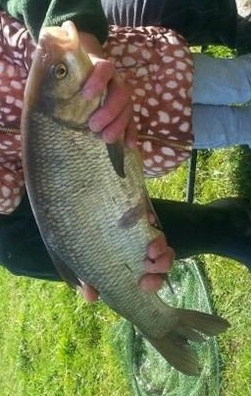Leuciscus idus: (20, 20, 231, 376)
